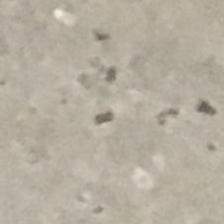Crack: (69, 29, 224, 145)
